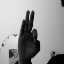f: (17, 9, 42, 59)
